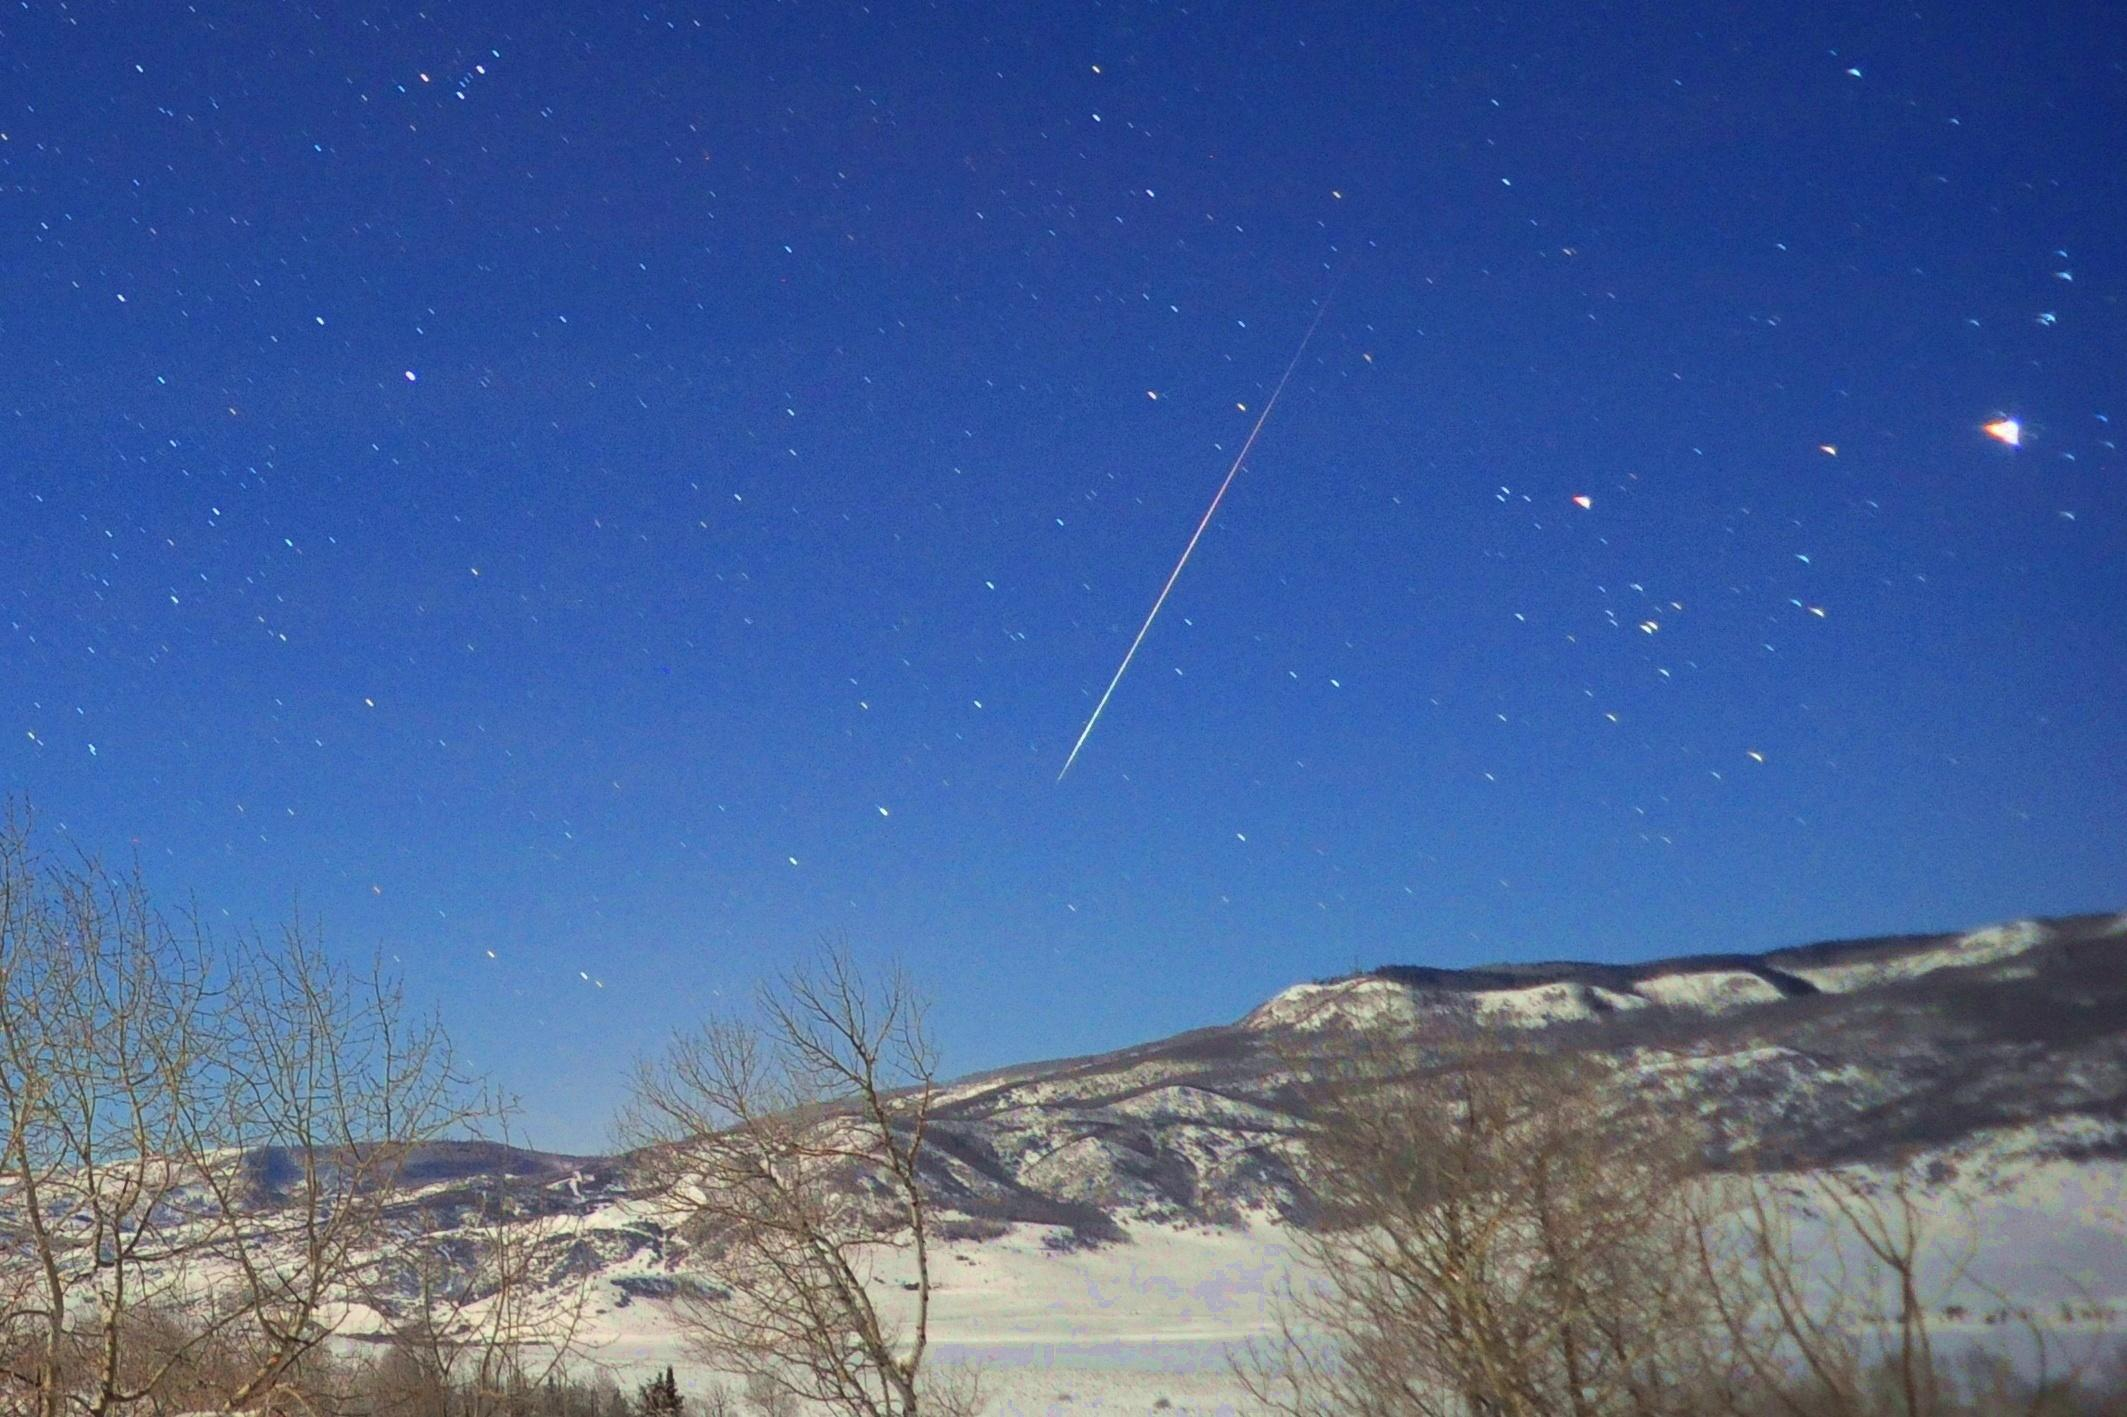meteorite: (980, 367, 1349, 811)
